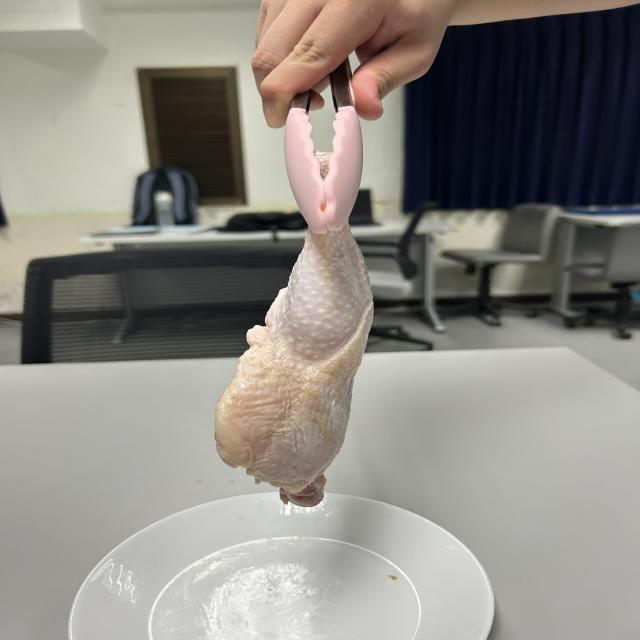quater: (222, 156, 382, 526)
